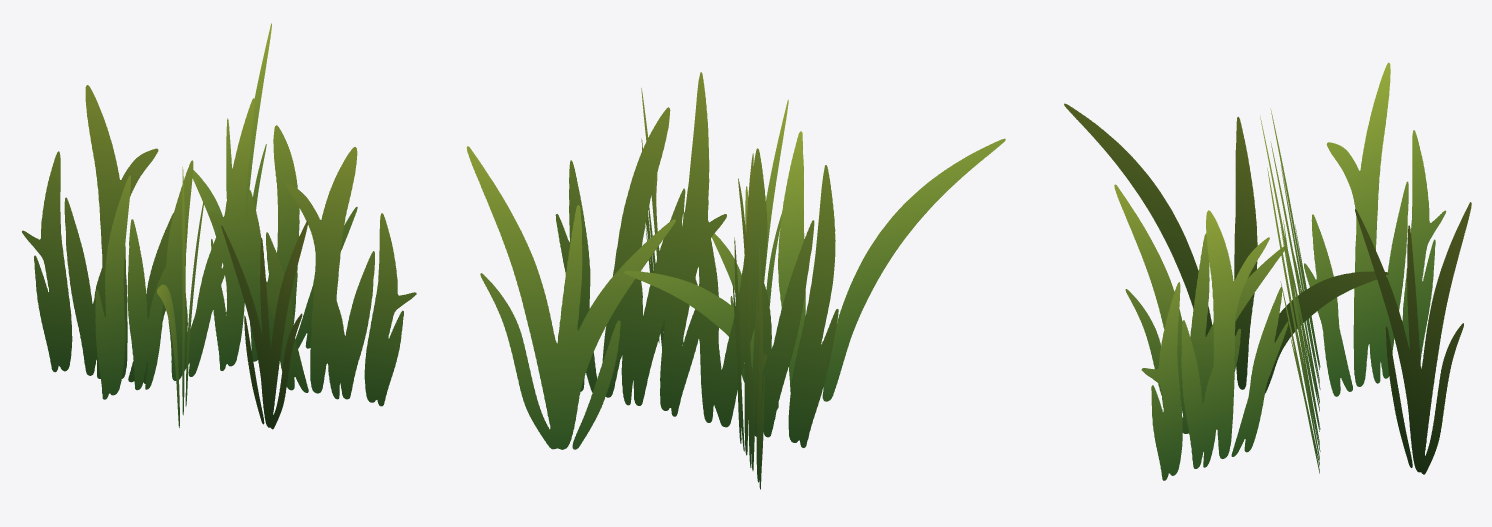
3 renders of one model, left to right at view 1: azimuth 30°, elevation 25°; view 2: azimuth 150°, elevation 25°; view 3: azimuth 270°, elevation 25°, orthographic. The views are drawn at different scales.
Parts seen in each view (by area): view 1: pl-grass-lush-c; view 2: pl-grass-lush-c; view 3: pl-grass-lush-c.
Boxes of the visible parts, x1,y1,x2,y2 form: pl-grass-lush-c: [22, 23, 416, 429]; pl-grass-lush-c: [466, 72, 1005, 489]; pl-grass-lush-c: [1064, 62, 1471, 480].
Bounding box in the file's own units: 0.8143 × 0.736 × 0.8119.
1 material, 1 textured.
